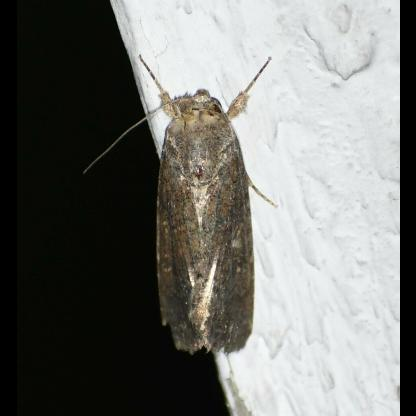Fall Armyworm Moth: (79, 50, 281, 360)
